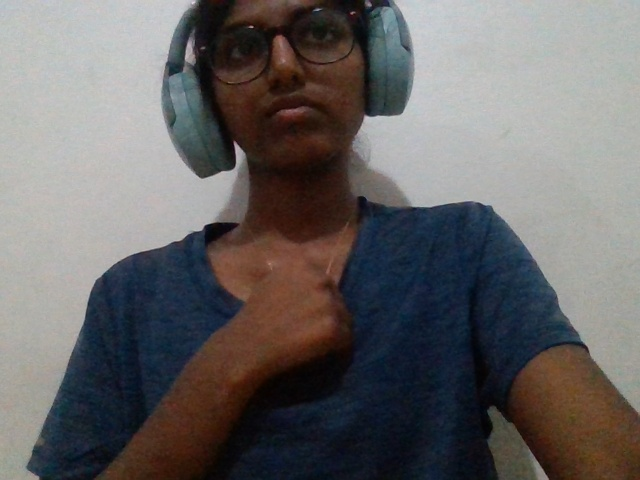Sorry: (180, 245, 366, 452)
